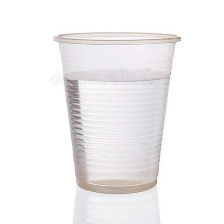glass: (46, 25, 188, 195)
